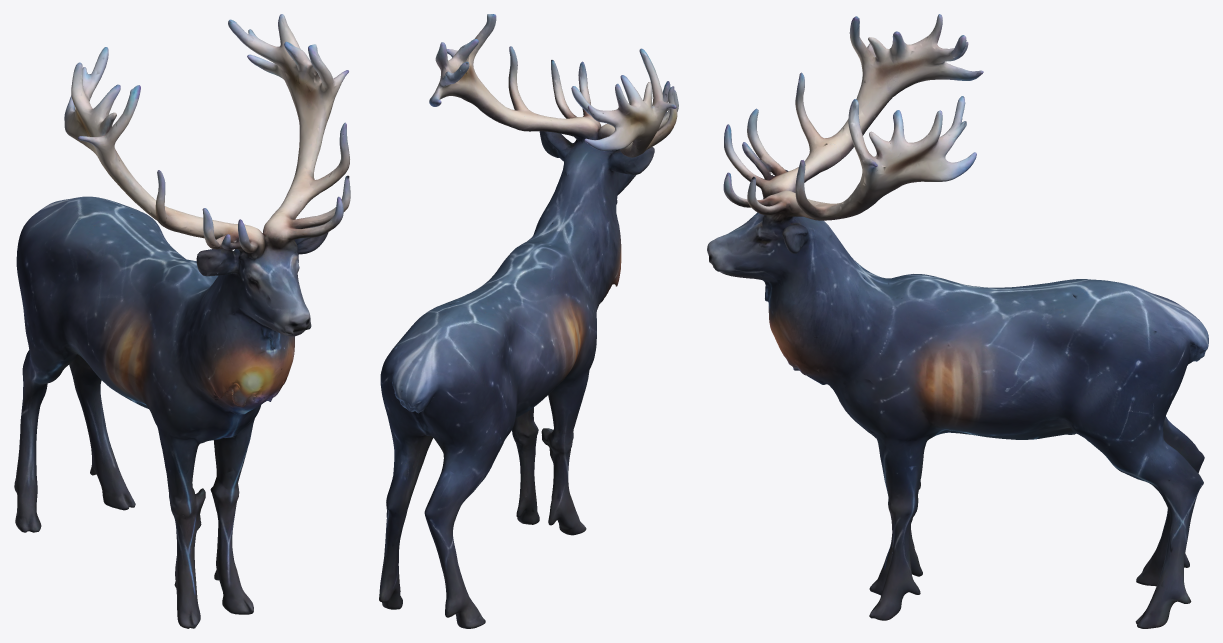
The model's file is stag_spirit_glow.glb.
3 renders of one model, left to right at view 1: azimuth 30°, elevation 25°; view 2: azimuth 150°, elevation 25°; view 3: azimuth 270°, elevation 25°, orthographic. The views are drawn at different scales.
Bounding box in the file's own units: 1.01 × 2 × 1.67.
1 material, 1 textured.
